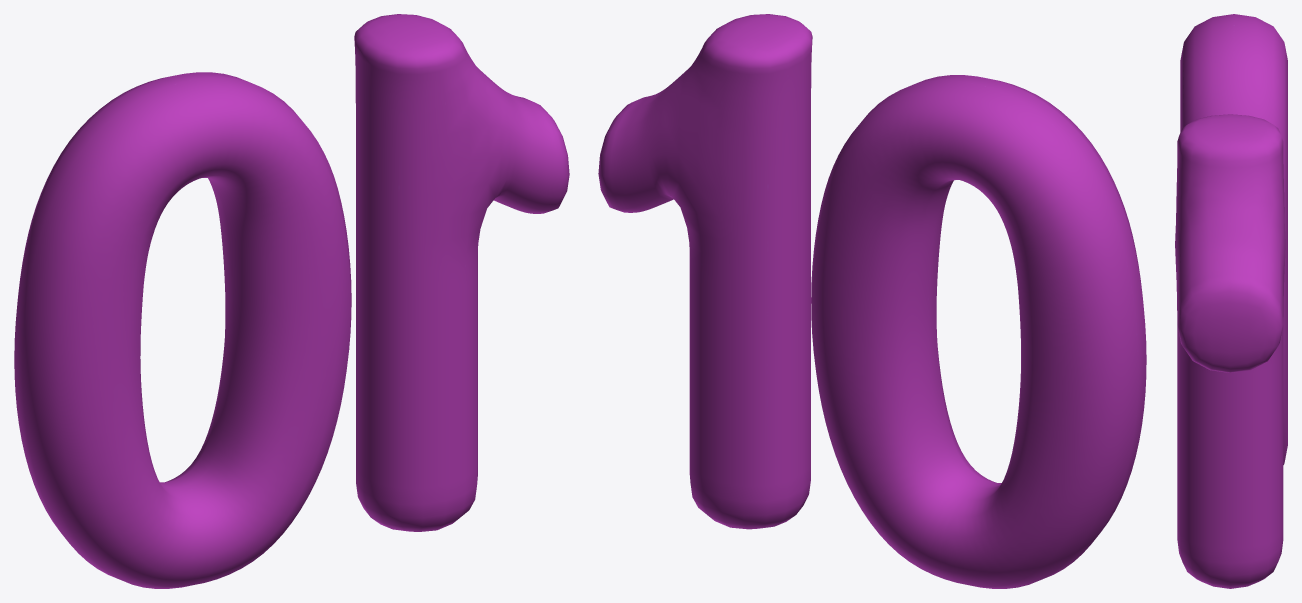
Rendered from numero-10.glb.
3 views of the same model, side by side, from view 1: azimuth 30°, elevation 25°; view 2: azimuth 150°, elevation 25°; view 3: azimuth 270°, elevation 25° (orthographic). The views are drawn at different scales.
Parts seen in each view (by area): view 1: node_id70, node_id62; view 2: node_id70, node_id62; view 3: node_id62, node_id70.
Boxes of the visible parts, x1,y1,x2,y2 form: node_id70: [14, 72, 351, 588]; node_id62: [354, 14, 569, 531]; node_id70: [811, 75, 1146, 588]; node_id62: [598, 14, 812, 529]; node_id62: [1175, 114, 1285, 588]; node_id70: [1180, 14, 1287, 464].
Bounding box in the file's own units: 0.5673 × 0.513 × 0.1165.
2 materials, 2 textured.
